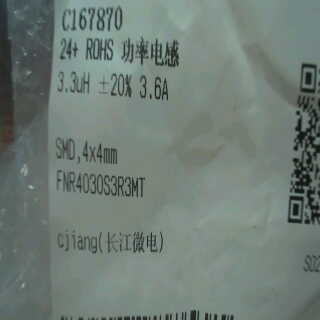3.3uH: (54, 67, 92, 104)
